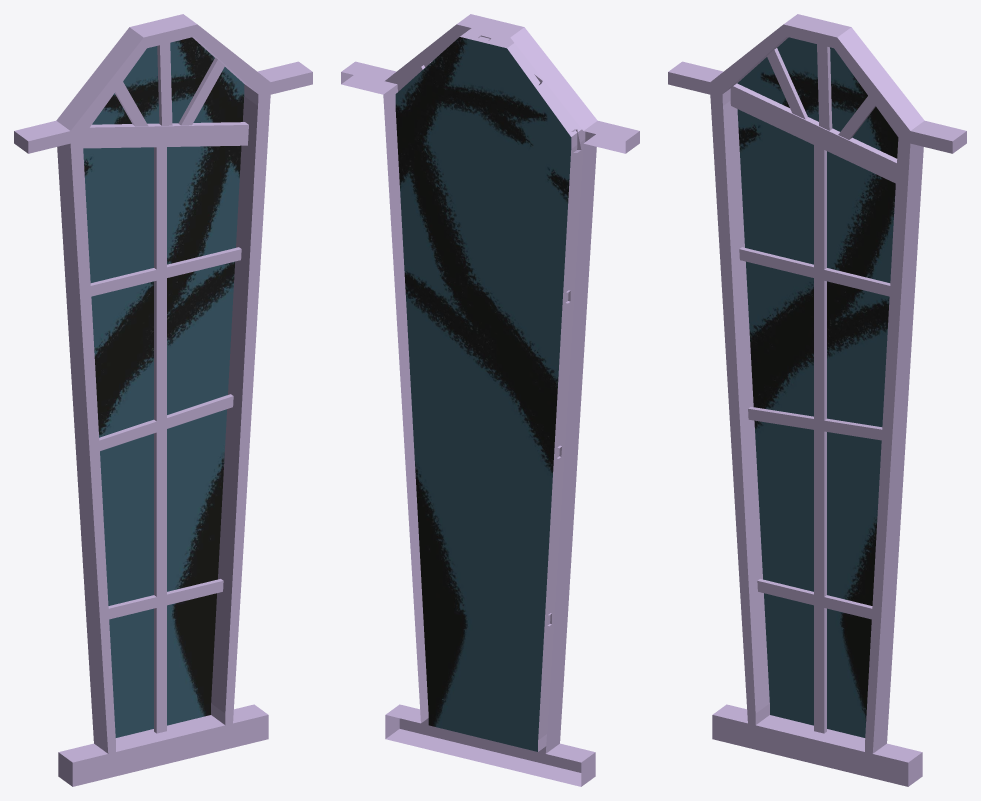
The model's file is WindowTall.fbx.
The picture shows the model from 3 angles, left to right: view 1: azimuth 30°, elevation 25°; view 2: azimuth 150°, elevation 25°; view 3: azimuth 330°, elevation 25°; orthographic projection.
Visible parts, largest first — view 1: polySurface6; view 2: polySurface6; view 3: polySurface6.
Part boxes in pixels (x1,y1,x2,y2): polySurface6: (14, 14, 312, 786); polySurface6: (341, 14, 639, 786); polySurface6: (668, 14, 966, 786).
Size of the model in its own units: 5.22 by 12.82 by 0.4524.
